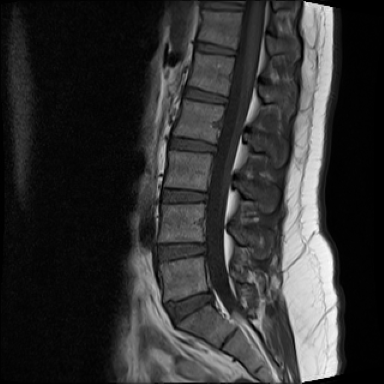Degenerative Disc Disease (DDD): (164, 135, 217, 156)
Normal IVD: (164, 286, 212, 327), (155, 235, 207, 265), (181, 83, 228, 107), (192, 39, 237, 60), (162, 186, 207, 205), (197, 1, 245, 11)
